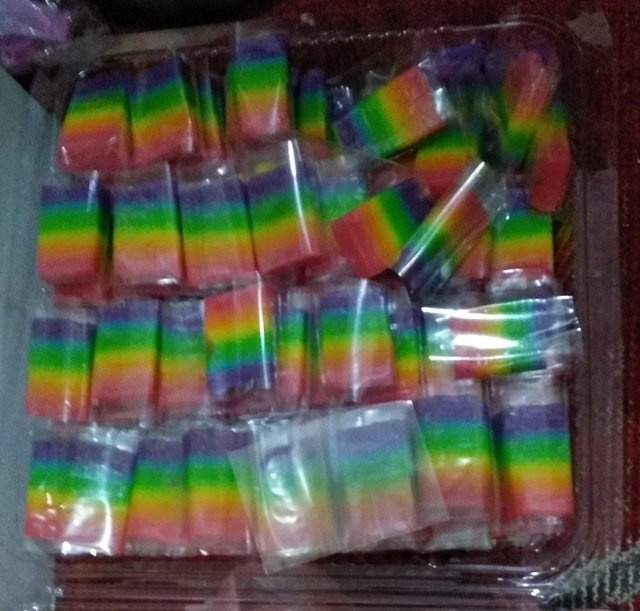kue_lapis_pelangi: (23, 450, 133, 552), (168, 171, 248, 294), (496, 402, 578, 519), (246, 163, 322, 277), (201, 287, 274, 405), (180, 432, 256, 543), (90, 299, 162, 414), (51, 72, 127, 177), (421, 396, 485, 519), (452, 299, 554, 375), (105, 181, 179, 285), (33, 188, 112, 285), (123, 67, 198, 164), (221, 45, 291, 144), (318, 296, 394, 386), (123, 439, 186, 542), (26, 315, 84, 425)
